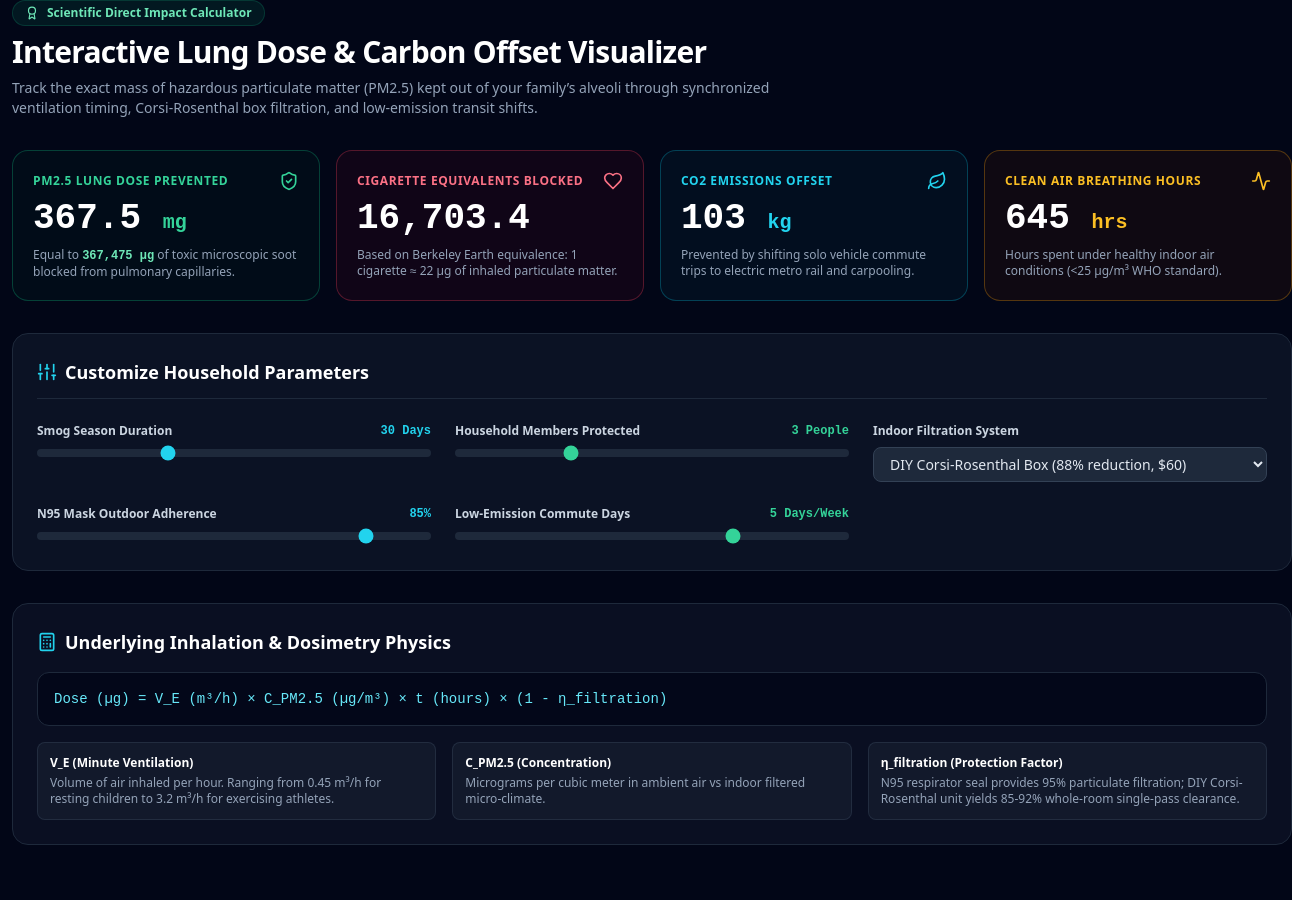
Test: ImpactVisualizerView Component › updates calculation dynamically when household slider changes
Step 1. Set the slider labelled "Household Members Protected" to "5" → (679, 453), box [455,449,849,457]
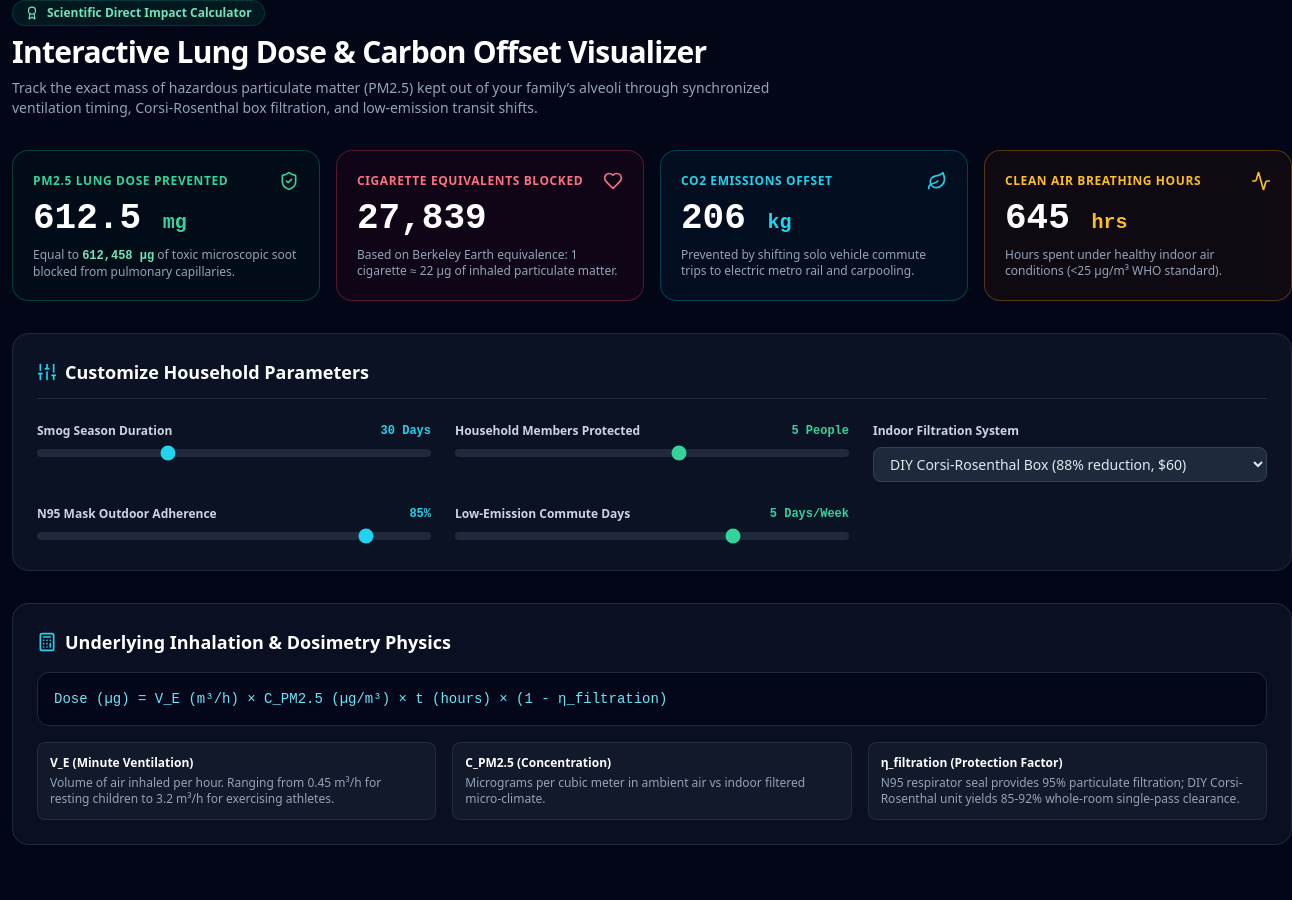
expect the text "5 People" is shown: met, box [791,423,849,439]
